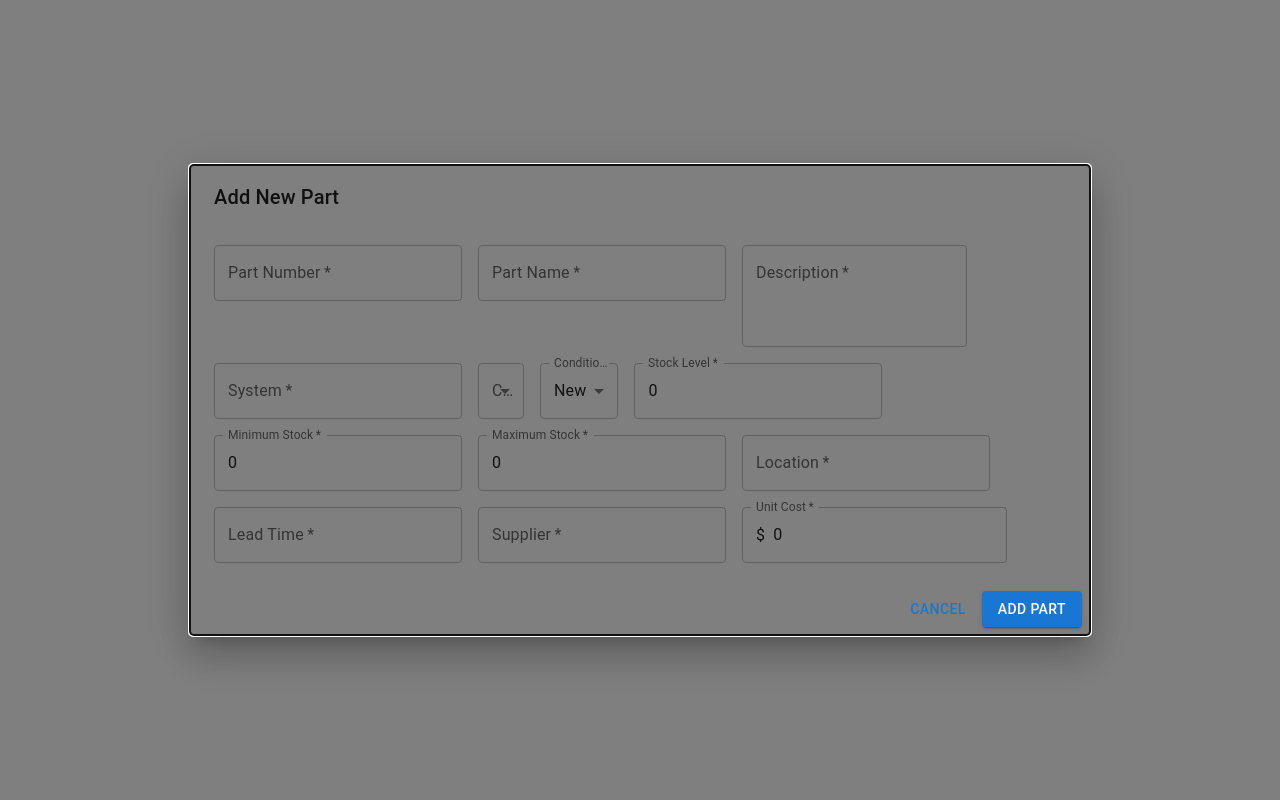
PartModal › validates required fields
The width and height of the screenshot is (1280, 800).
Step 1. Click the button "Add Part" → click(1032, 609), box [982,591,1082,627]
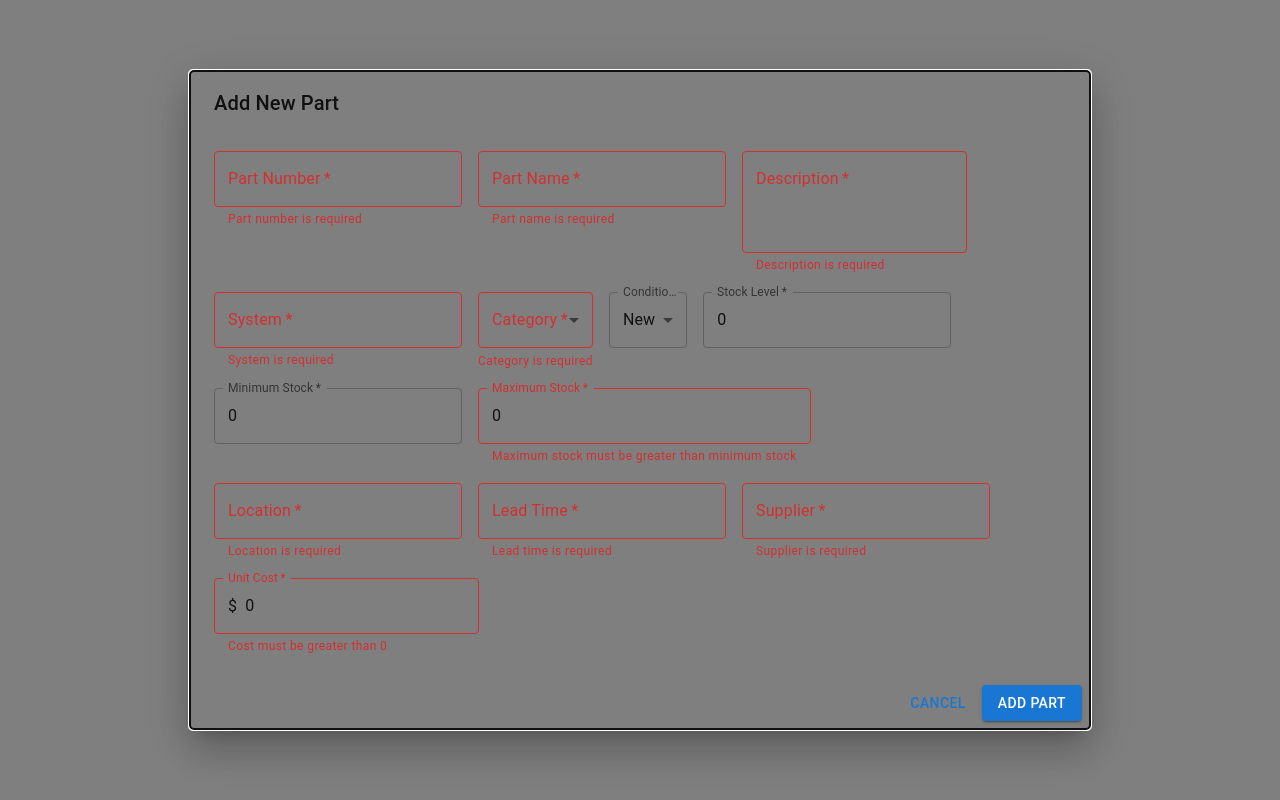
expect the text "Part number is required" is shown: met, box [228,212,362,226]
expect the text "Part name is required" is shown: met, box [492,212,615,226]
expect the text "Description is required" is shown: met, box [756,258,885,272]
